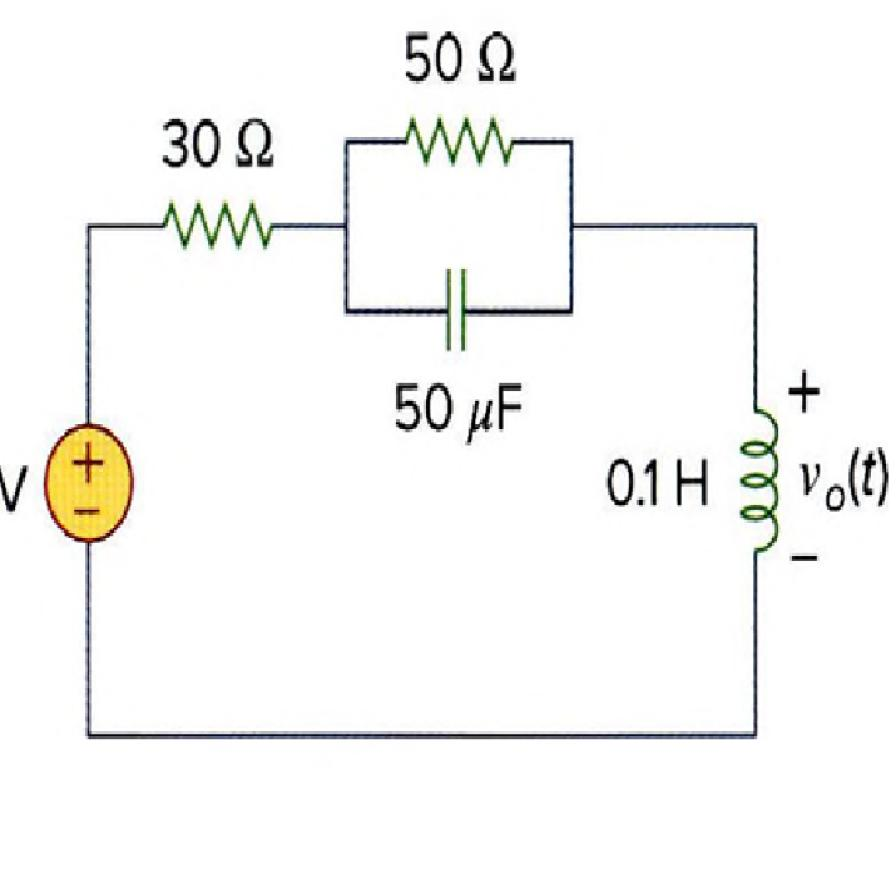C1: (417, 240, 491, 372)
L2: (733, 393, 787, 574)
